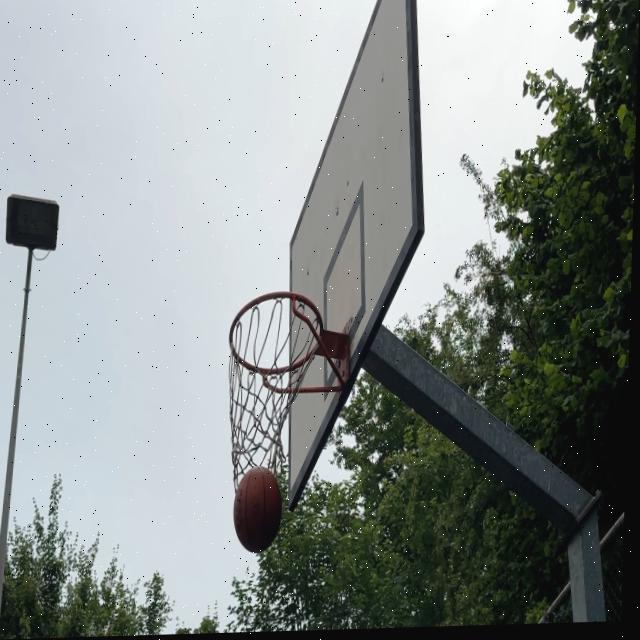Basketball: (234, 467, 283, 553)
